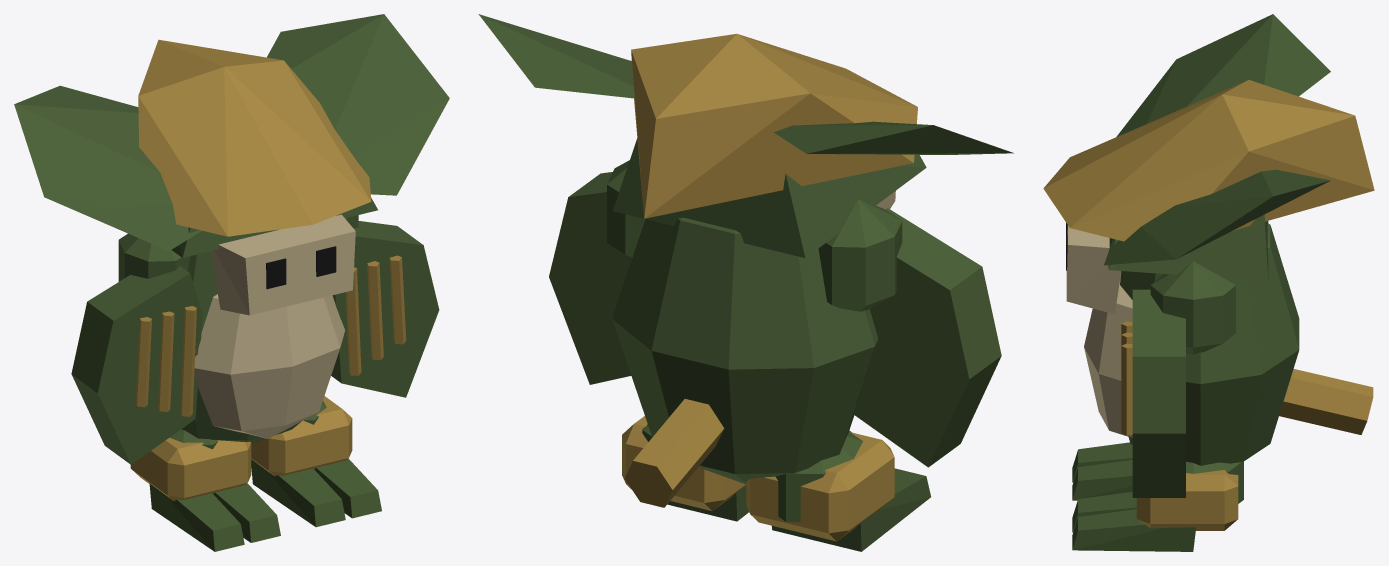
The model's file is coppicrown.glb.
The picture shows the model from 3 angles, left to right: view 1: azimuth 30°, elevation 25°; view 2: azimuth 150°, elevation 25°; view 3: azimuth 270°, elevation 25°; orthographic projection. The views are drawn at different scales.
Parts seen in each view (by area): view 1: Coppicrown; view 2: Coppicrown; view 3: Coppicrown.
Boxes of the visible parts, bbox=[...] form: Coppicrown: bbox=[14, 14, 449, 551]; Coppicrown: bbox=[478, 14, 1013, 551]; Coppicrown: bbox=[1043, 14, 1374, 551].
Size of the model in its own units: 1.2 by 1.16 by 0.84.
